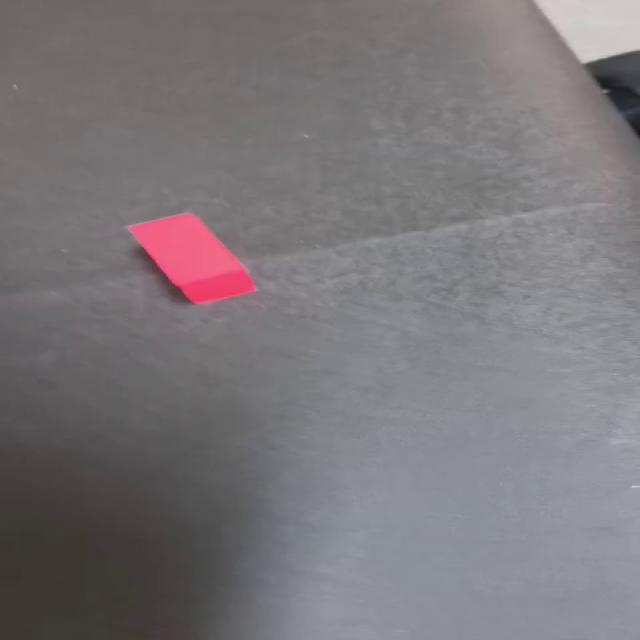red block: (125, 212, 258, 304)
